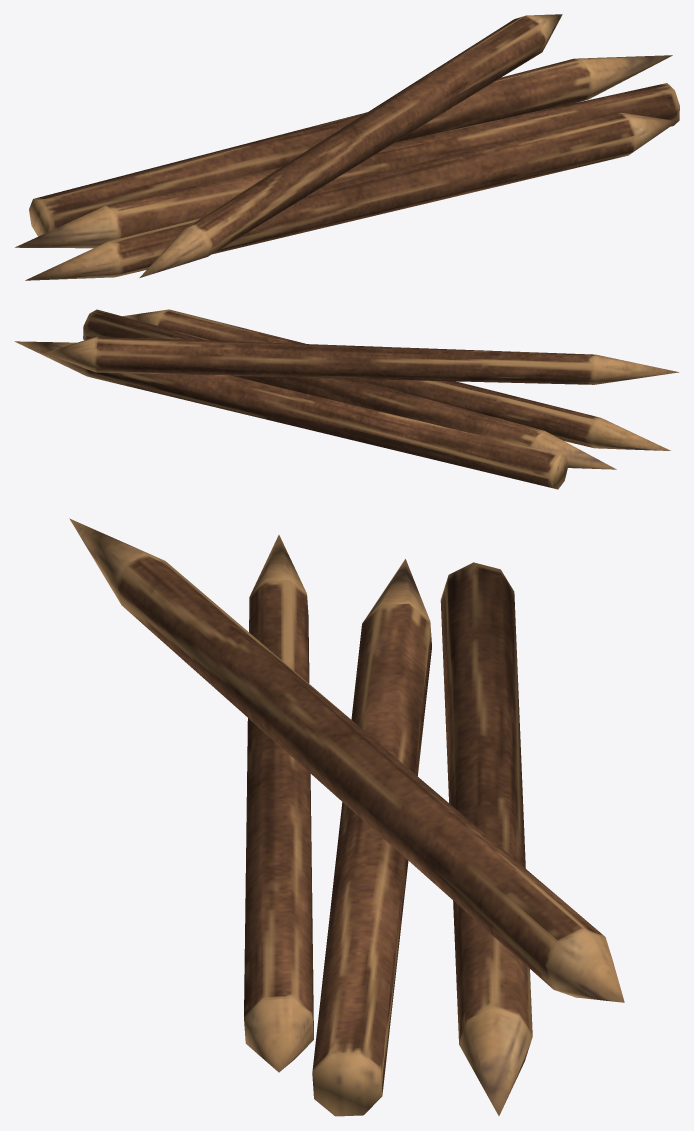
Rendered from WoodPile.fbx.
The picture shows the model from 3 angles, top to bottom: view 1: azimuth 30°, elevation 25°; view 2: azimuth 150°, elevation 25°; view 3: azimuth 270°, elevation 25°; orthographic projection. The views are drawn at different scales.
Visible parts, largest first — view 1: WoodPile3; view 2: WoodPile3; view 3: WoodPile3.
Part boxes in pixels (x1,y1,x2,y2): WoodPile3: (15, 14, 679, 280); WoodPile3: (14, 309, 678, 489); WoodPile3: (69, 518, 624, 1116).
Bounding box in the file's own units: 174 × 17.47 × 69.63.
